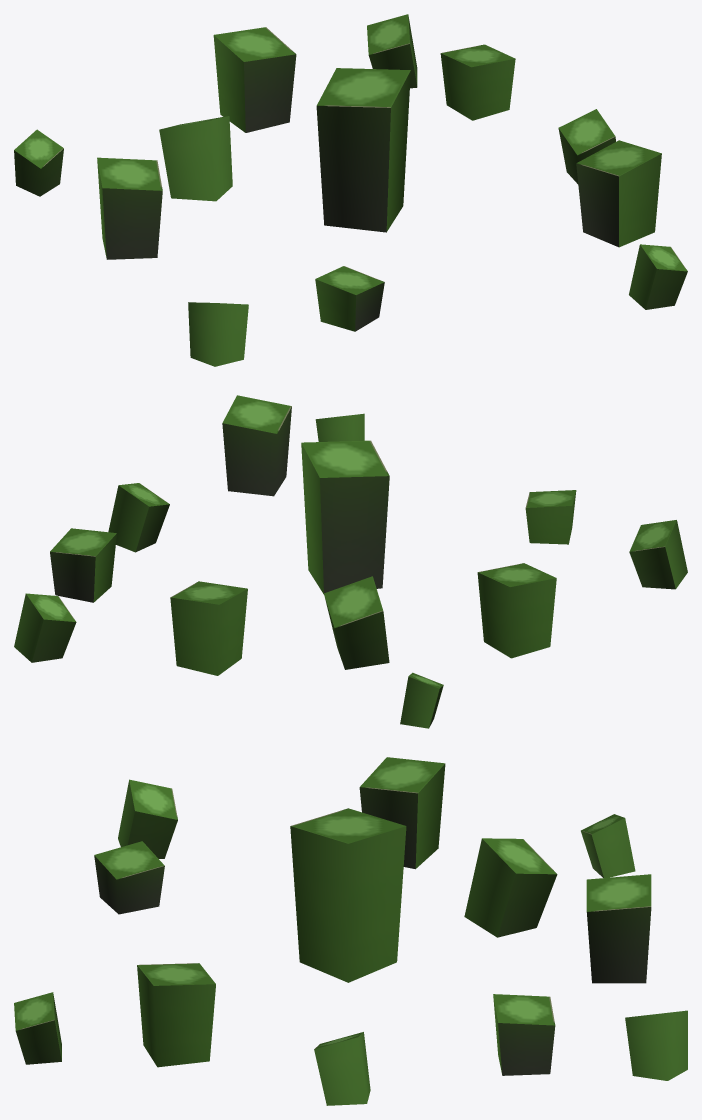
The model's file is deco_fern_cut.FBX.
The picture shows the model from 3 angles, top to bottom: view 1: azimuth 30°, elevation 25°; view 2: azimuth 150°, elevation 25°; view 3: azimuth 270°, elevation 25°; orthographic projection. The views are drawn at different scales.
Visible parts, largest first — view 1: deco_fern_cut; view 2: deco_fern_cut; view 3: deco_fern_cut.
Boxes of the visible parts, bbox=[...] form: deco_fern_cut: bbox=[14, 14, 687, 366]; deco_fern_cut: bbox=[14, 395, 687, 728]; deco_fern_cut: bbox=[14, 757, 687, 1105].
Bounding box in the file's own units: 1.47 × 0.4234 × 1.58.
1 material, 1 textured.
